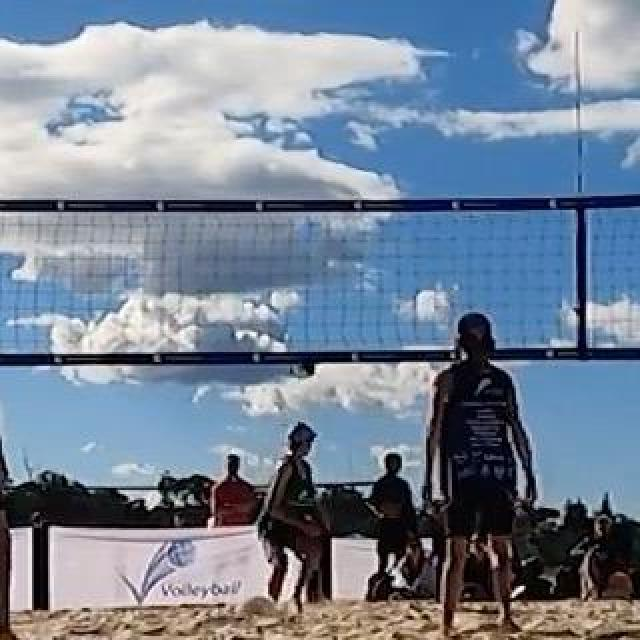volleyball: (286, 347, 318, 379)
